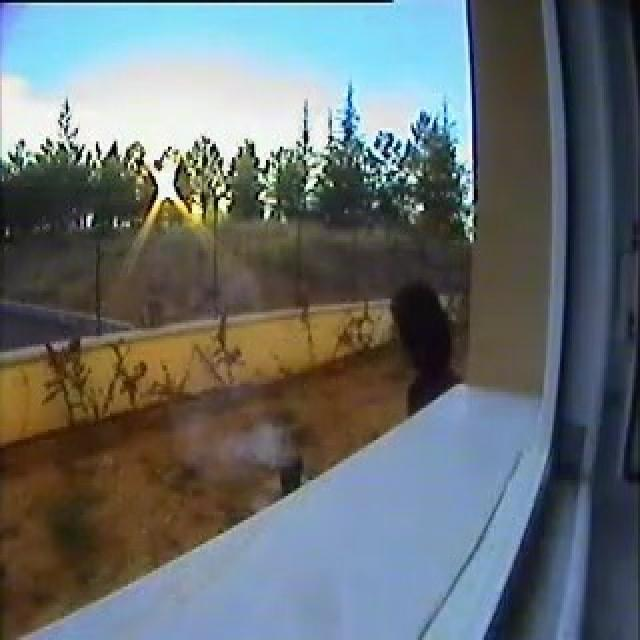smoke: (234, 427, 290, 466)
